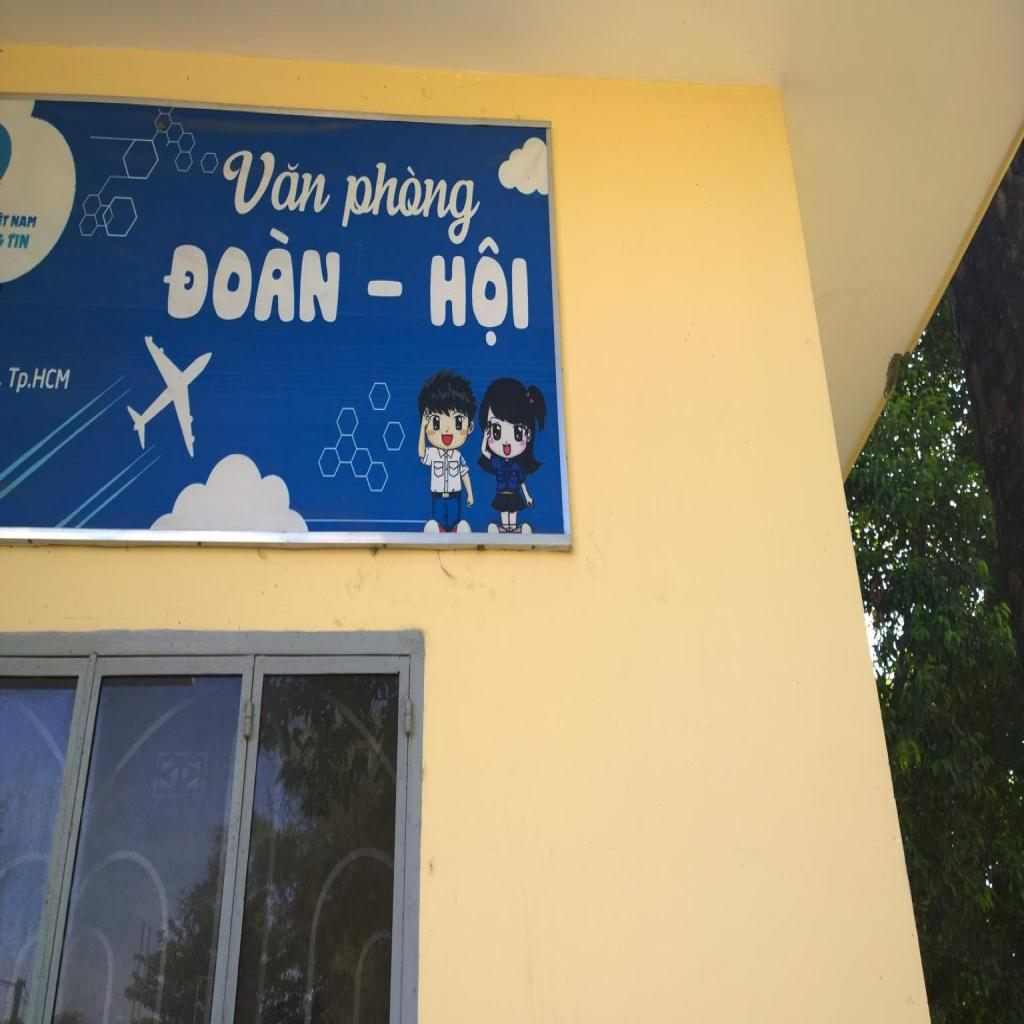text: (160, 217, 346, 327), (338, 159, 487, 246), (428, 232, 532, 352), (219, 144, 336, 226), (6, 360, 74, 397), (10, 211, 38, 232), (1, 213, 10, 230)
